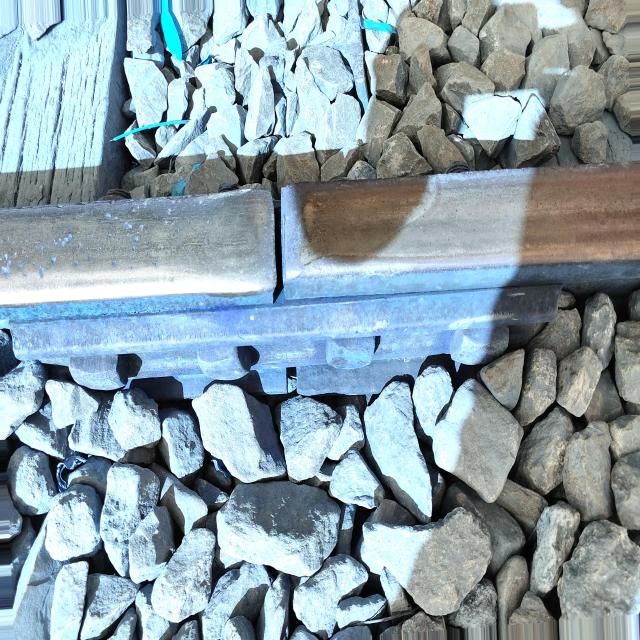crack: (247, 173, 315, 309)
